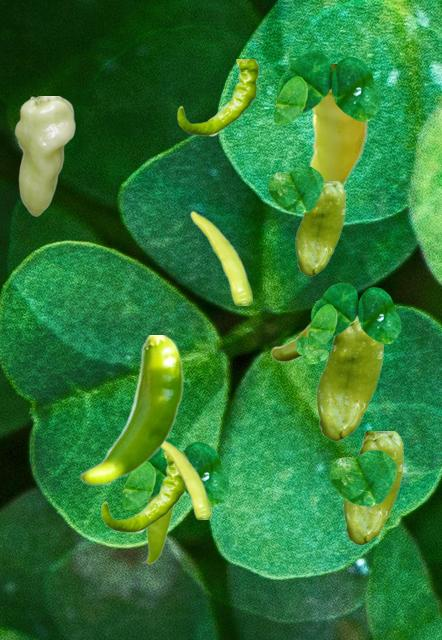green_chili: (79, 335, 183, 485), (306, 64, 371, 190), (316, 316, 382, 440), (14, 96, 74, 215), (101, 452, 187, 532), (343, 431, 402, 544), (177, 59, 258, 135), (190, 210, 251, 304), (295, 181, 344, 275), (140, 435, 174, 563), (161, 441, 210, 518), (270, 301, 315, 360)
